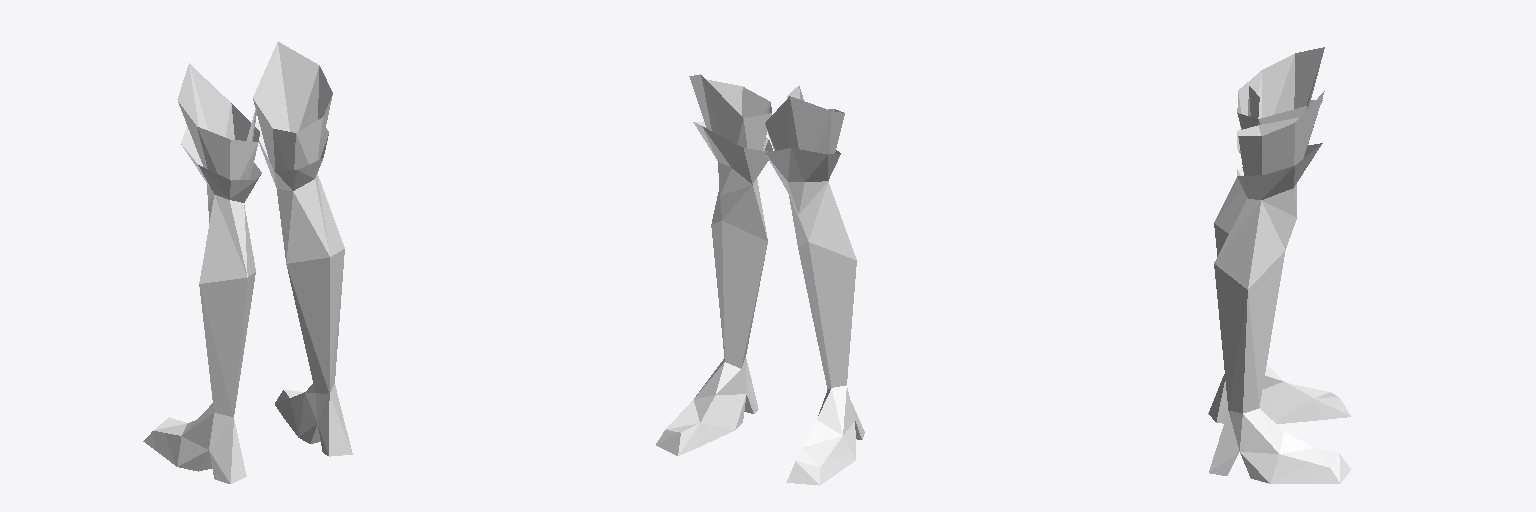
Rendered from 2_mi_boots_10.obj.
3 renders of one model, left to right at view 1: azimuth 30°, elevation 25°; view 2: azimuth 150°, elevation 25°; view 3: azimuth 270°, elevation 25°, orthographic.
Parts seen in each view (by area): view 1: defaultobject; view 2: defaultobject; view 3: defaultobject.
Part boxes in pixels (bbox=[...]): defaultobject: bbox=[143, 42, 352, 483]; defaultobject: bbox=[656, 74, 864, 485]; defaultobject: bbox=[1208, 47, 1350, 483].
Size of the model in its own units: 12.57 by 26.99 by 9.34.